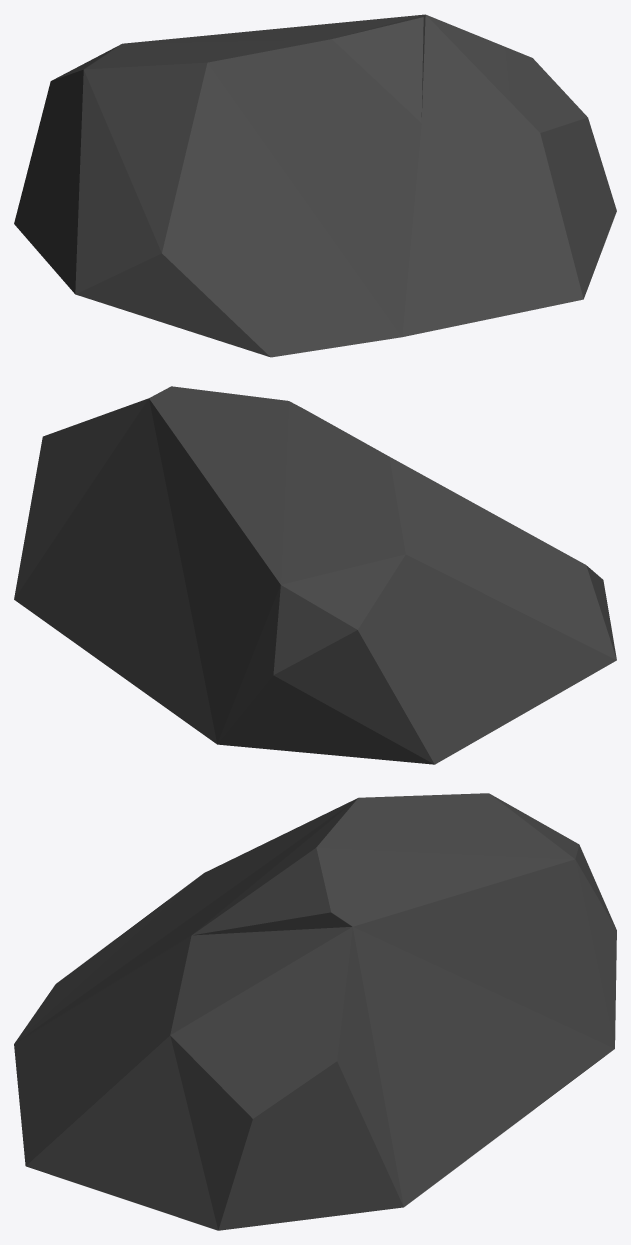
The model's file is rock_8.FBX.
3 views of the same model, one above another, from view 1: azimuth 30°, elevation 25°; view 2: azimuth 150°, elevation 25°; view 3: azimuth 270°, elevation 25° (orthographic). The views are drawn at different scales.
Parts seen in each view (by area): view 1: rock_8; view 2: rock_8; view 3: rock_8.
Boxes of the visible parts, x1,y1,x2,y2 form: rock_8: [14, 14, 616, 357]; rock_8: [14, 386, 616, 764]; rock_8: [14, 793, 616, 1230].
Size of the model in its own units: 1.1 by 0.4117 by 0.9264.
Materials: 1 (1 with a texture image).
